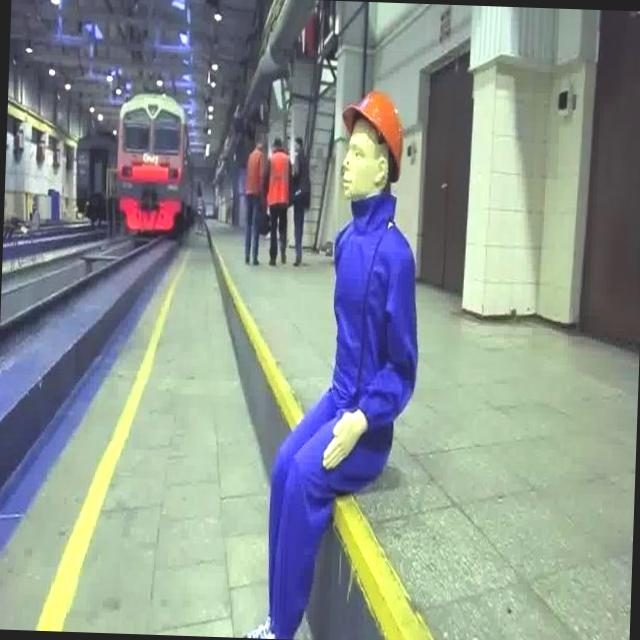vest: (265, 150, 292, 211)
